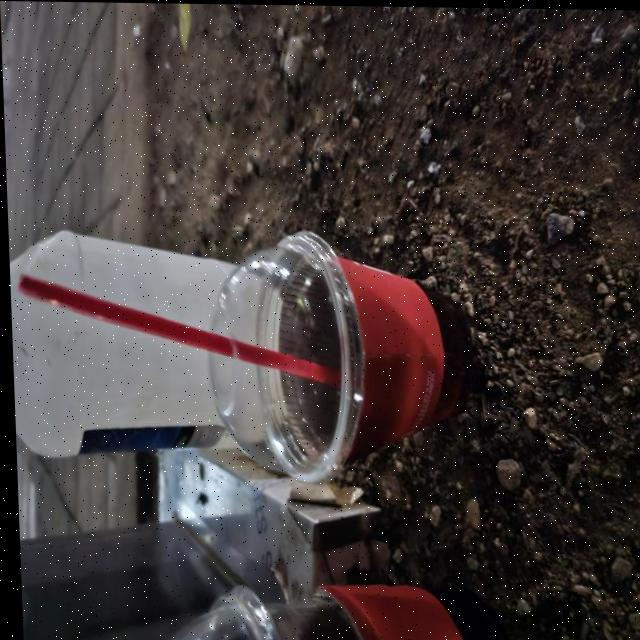cup: (197, 224, 474, 495)
